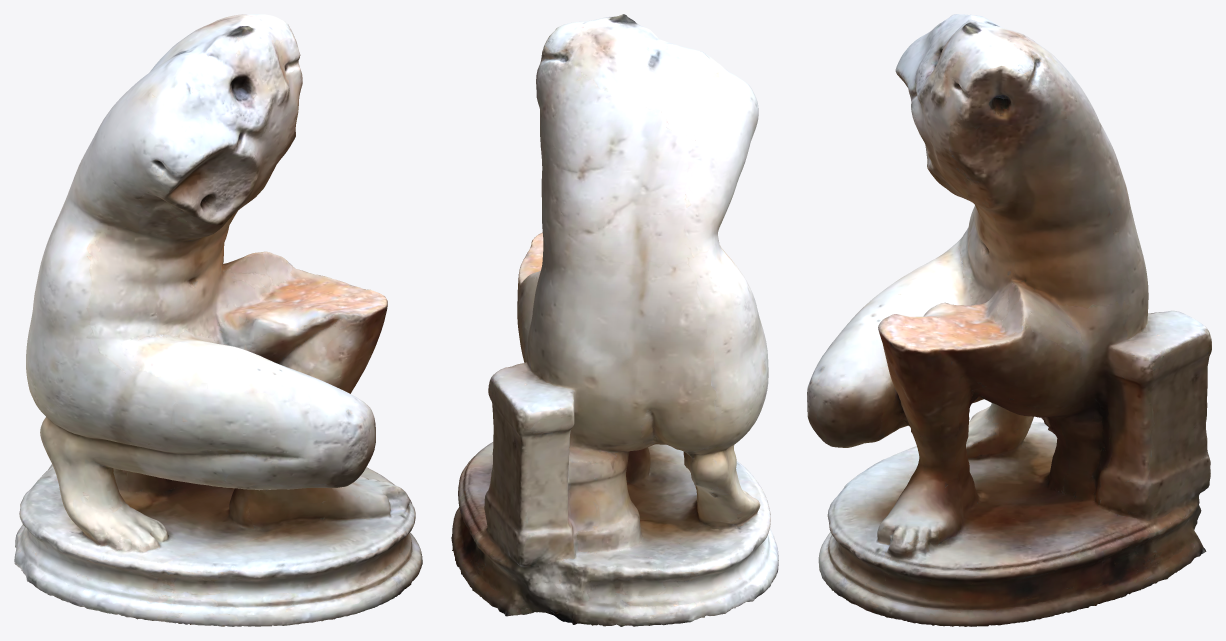
Rendered from preview-5cf07e325dac.glb.
The picture shows the model from 3 angles, left to right: view 1: azimuth 30°, elevation 25°; view 2: azimuth 150°, elevation 25°; view 3: azimuth 270°, elevation 25°; orthographic projection. The views are drawn at different scales.
Visible parts, largest first — view 1: Object_2; view 2: Object_2; view 3: Object_2.
Boxes of the visible parts, x1,y1,x2,y2 form: Object_2: (14,14,422,626); Object_2: (451,14,778,626); Object_2: (807,14,1211,626).
Bounding box in the file's own units: 21.04 × 32.45 × 22.57.
Materials: 1 (1 with a texture image).
